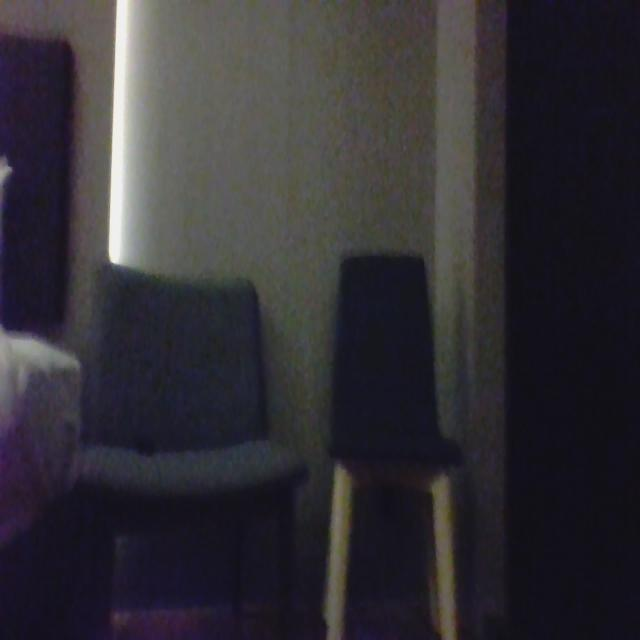empty: (74, 268, 295, 518), (314, 233, 443, 460)
